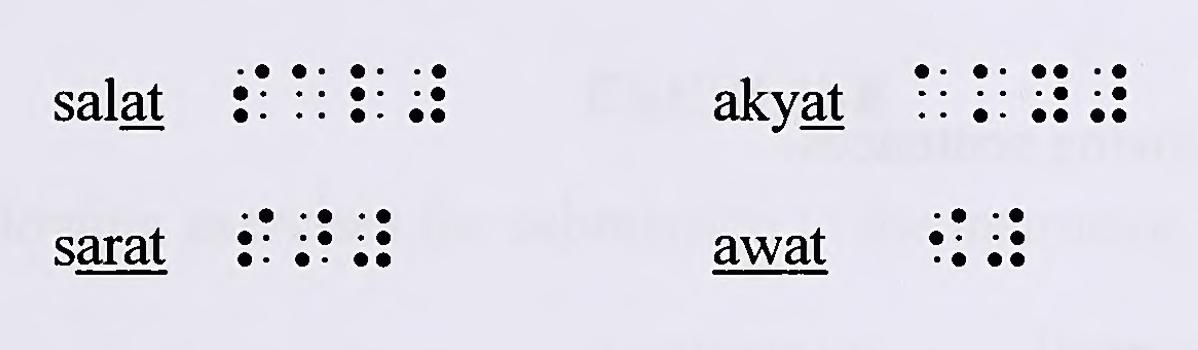a: (292, 64, 325, 119), (914, 64, 947, 119)
ar: (295, 209, 332, 268)
at: (408, 64, 446, 123), (353, 209, 391, 268), (987, 208, 1025, 267), (1090, 64, 1126, 123)
aw: (929, 208, 966, 267)
k: (973, 64, 1006, 123)
l: (350, 64, 384, 123)
s: (232, 64, 270, 124), (237, 208, 274, 267)
y: (1031, 64, 1068, 123)
